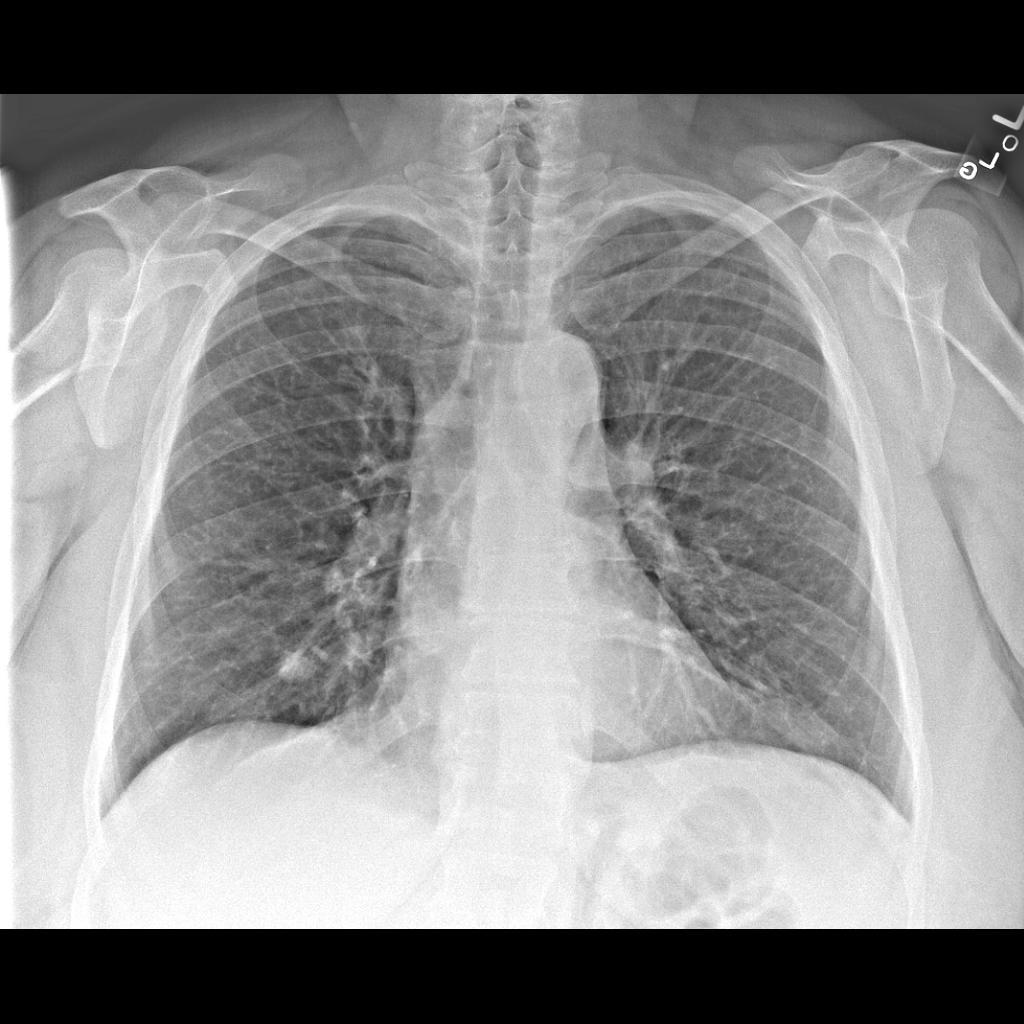Nodule: (273, 644, 325, 692)
